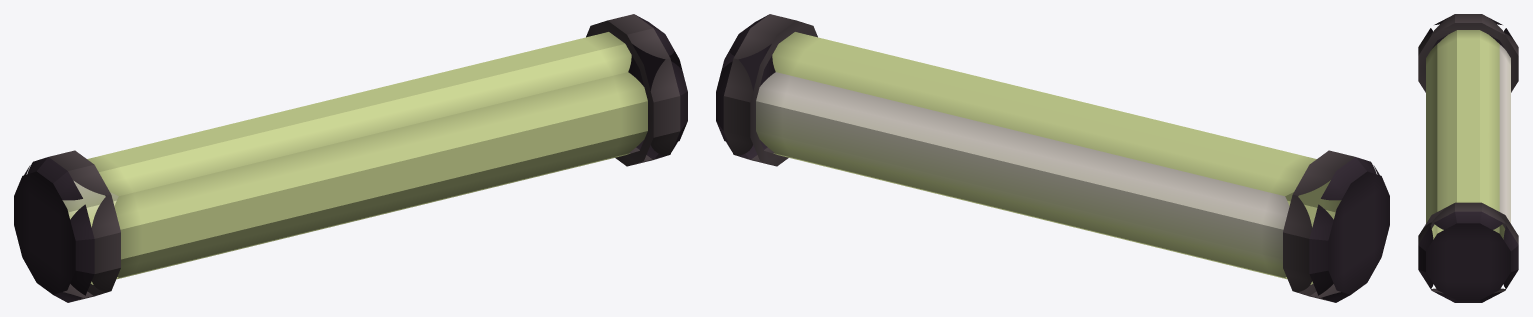
File: lightbulb.fbx
3 views of the same model, side by side, from view 1: azimuth 30°, elevation 25°; view 2: azimuth 150°, elevation 25°; view 3: azimuth 270°, elevation 25° (orthographic). The views are drawn at different scales.
Visible parts, largest first — view 1: lightbulb; view 2: lightbulb; view 3: lightbulb.
Part boxes in pixels (bbox=[...]): lightbulb: bbox=[14, 14, 687, 302]; lightbulb: bbox=[716, 14, 1389, 302]; lightbulb: bbox=[1418, 14, 1518, 302].
Bounding box in the file's own units: 144 × 29.58 × 29.58.
